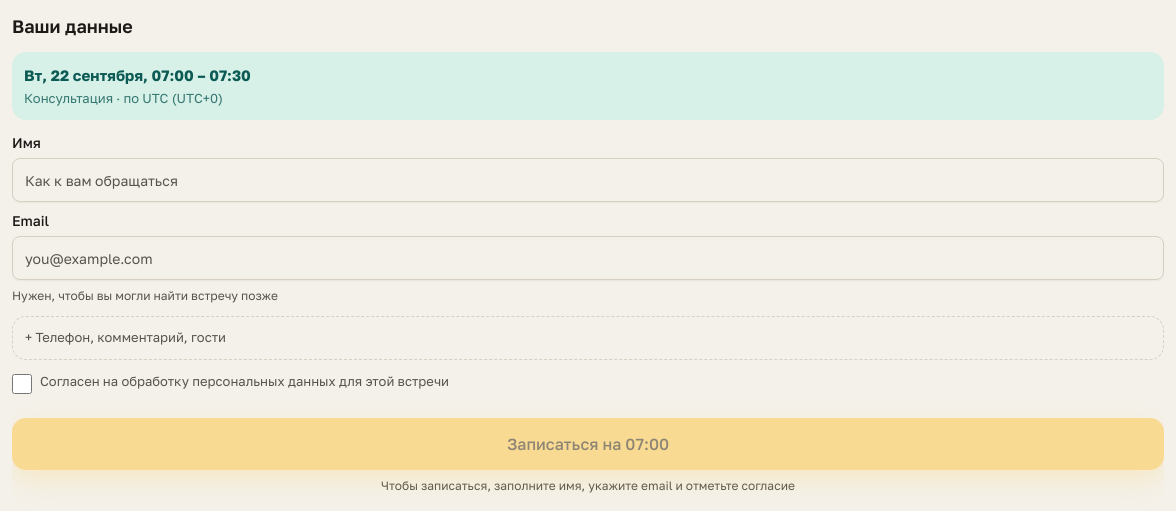
Test: BookingForm › включает кнопку отправки только после заполнения всех полей
Type "Иван" into the field labelled "Имя".
click(588, 180); type("Иван")  # box [12,158,1164,202]
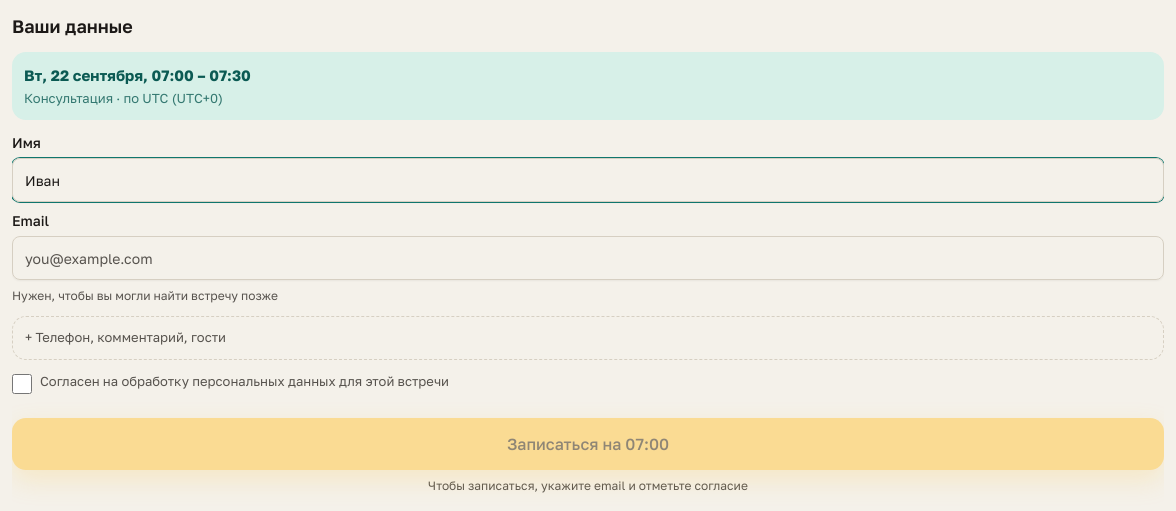
Check: the button "Записаться на 07:00" is disabled, box [12,418,1164,470]
Type "ivan@example.com" into the field labelled "Email".
click(588, 258); type("ivan@example.com")  # box [12,236,1164,280]
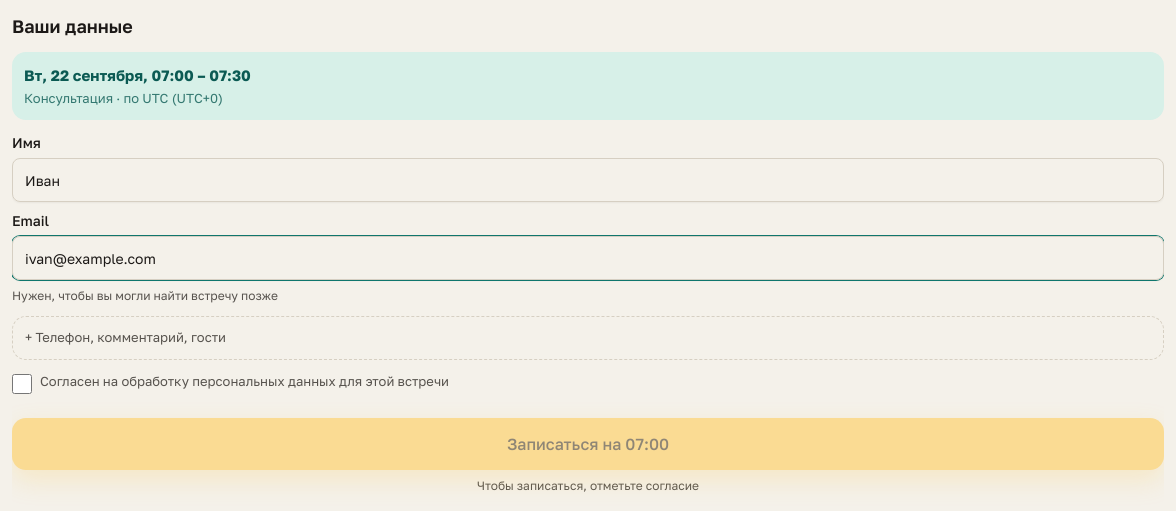
Check: the button "Записаться на 07:00" is disabled, box [12,418,1164,470]
Click the checkbox named "Согласие на обработку персональных данных".
click(22, 384)  # box [12,374,32,394]
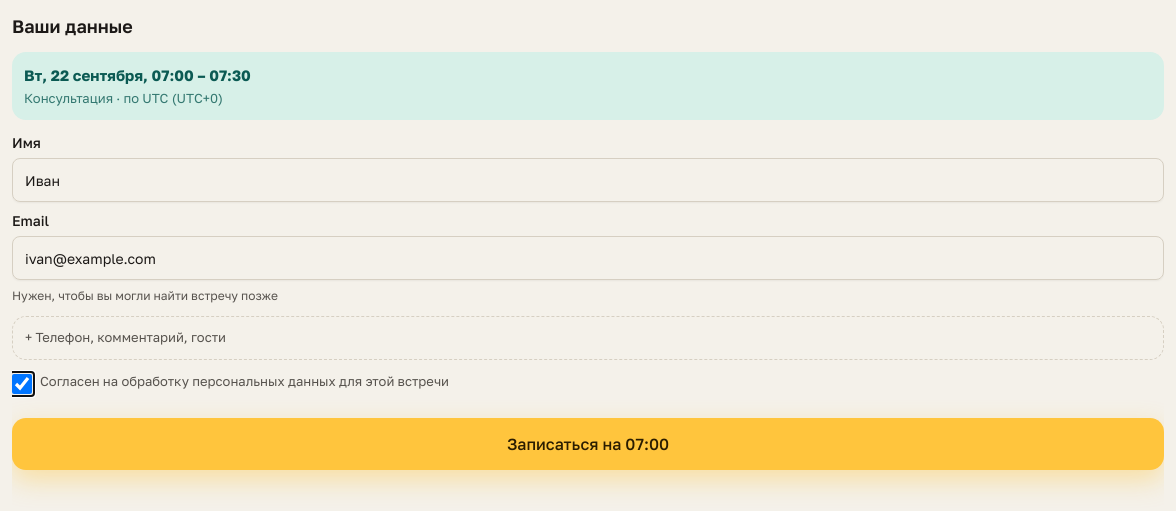
Check: the button "Записаться на 07:00" is enabled, box [12,418,1164,470]
